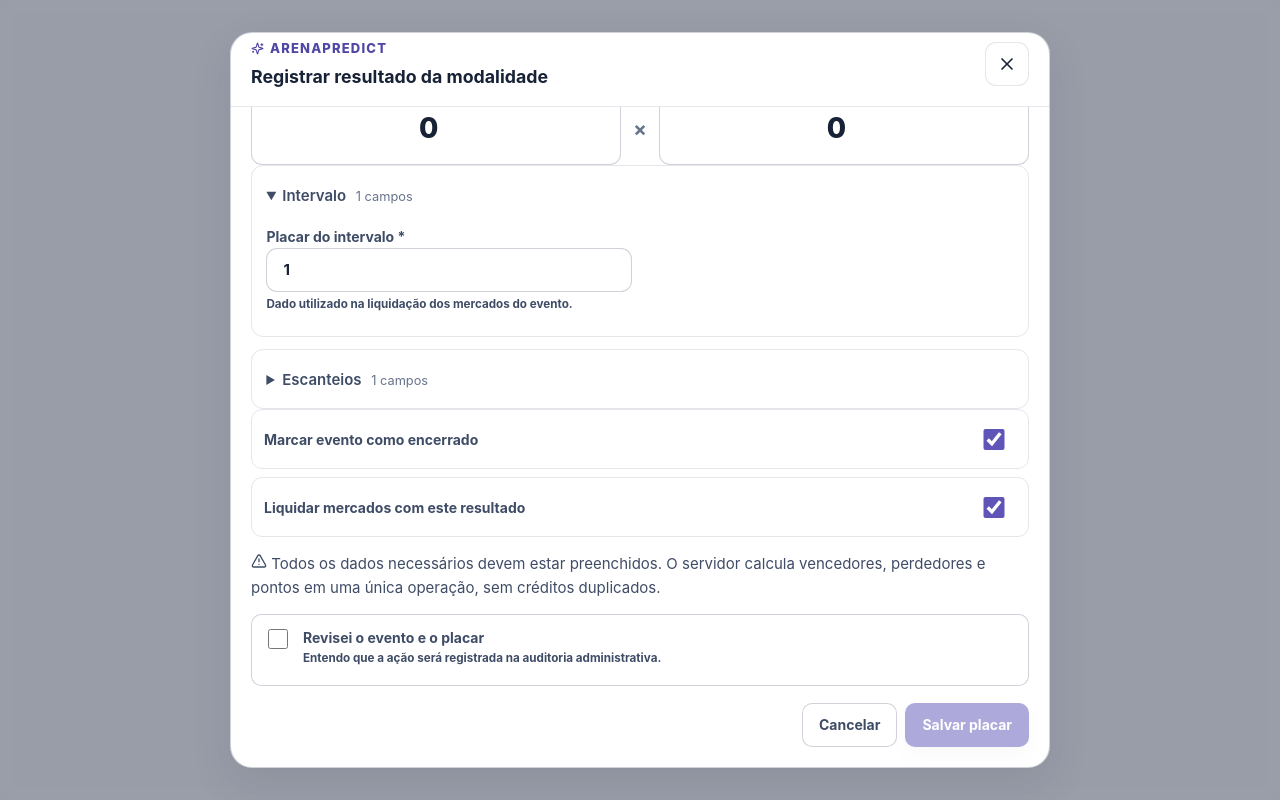
registro de resultados por modalidade › expande a seção com o primeiro dado ausente, mostra erro e leva o foco
The width and height of the screenshot is (1280, 800).
(page scrolled)
Click the checkbox labelled "Revisei o evento". click: (278, 639)
box: [268,629,288,649]
(page scrolled)
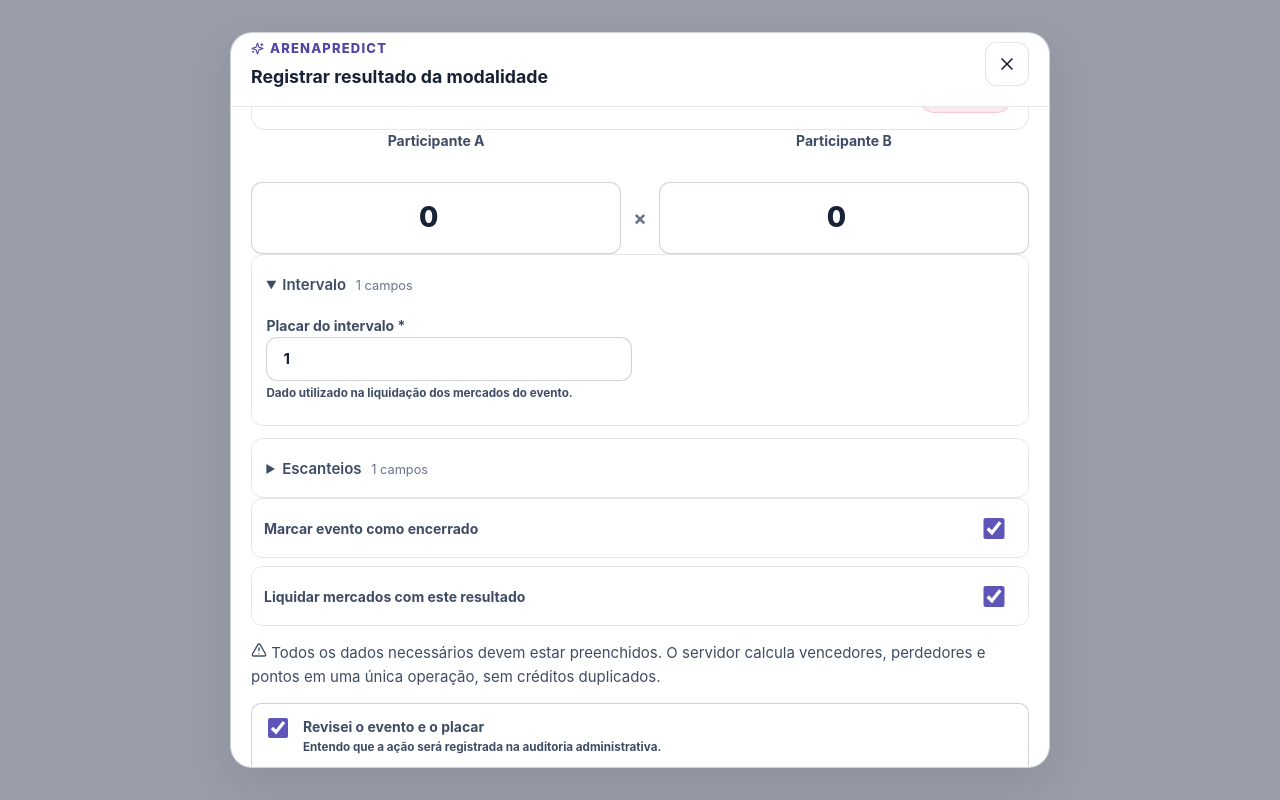
Submit the form
(page scrolled)
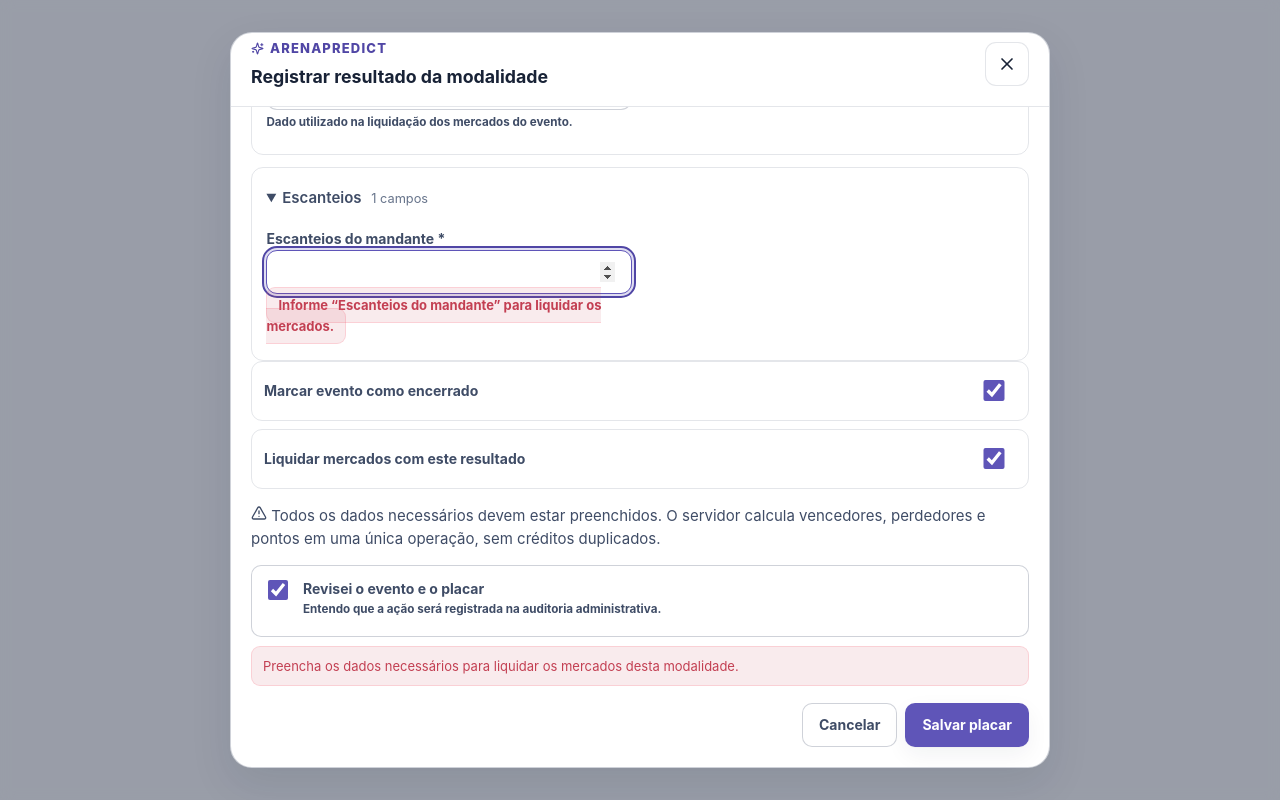
Check: the message shows "Preencha os dados necessários", box [263,658,739,674]
